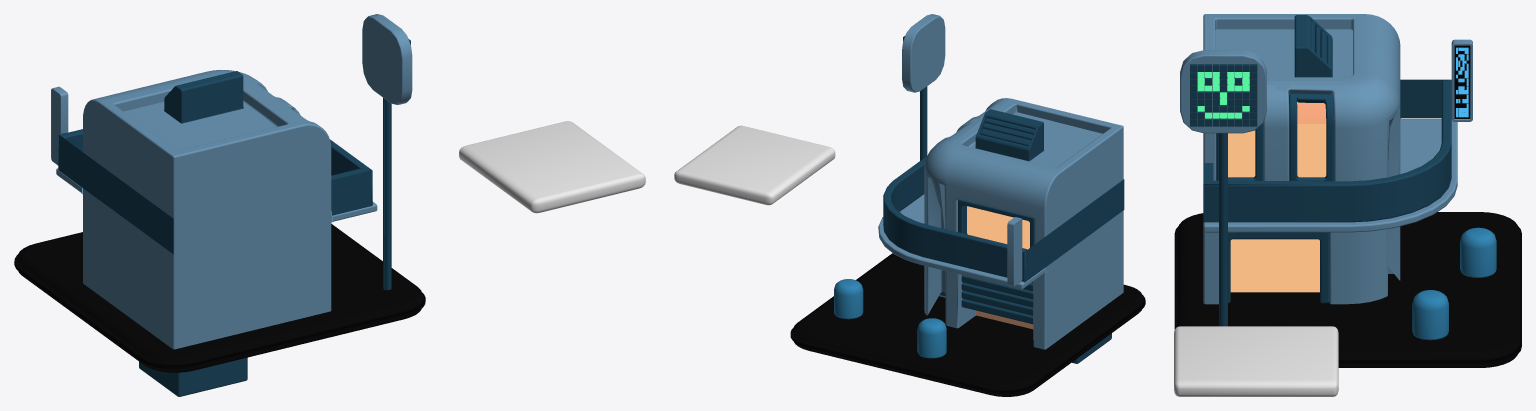
File: citymodel.glb
The picture shows the model from 3 angles, left to right: view 1: azimuth 30°, elevation 25°; view 2: azimuth 150°, elevation 25°; view 3: azimuth 270°, elevation 25°; orthographic projection. The views are drawn at different scales.
Visible parts, largest first — view 1: Plane.001, Plane, Cube, Plane.003, Plane.009, Plane.011, Vert, Plane.008; view 2: Plane.001, Plane, Plane.003, Cube, Plane.009, Plane.011, Plane.007, Plane.002, Circle.001, Circle, Plane.008, Plane.005 (+1 smaller); view 3: Plane.001, Plane, Plane.003, Cube, Plane.002, Plane.012, Plane.009, Plane.004, Plane.011, Vert, Circle.001, Circle (+5 smaller).
Boxes of the visible parts, x1,y1,x2,y2 form: Plane.001: (83,69,331,349); Plane: (14,224,425,372); Cube: (459,121,645,213); Plane.003: (58,129,372,396); Plane.009: (362,14,412,104); Plane.011: (164,71,243,123); Vert: (383,98,391,290); Plane.008: (51,86,68,165); Plane.001: (924,98,1123,349); Plane: (790,253,1145,396); Plane.003: (883,156,1124,363); Cube: (674,125,835,205); Plane.009: (902,14,945,92); Plane.011: (975,109,1044,161); Plane.007: (961,275,1033,324); Plane.002: (878,194,1045,289); Circle.001: (917,318,946,358); Circle: (834,279,863,319); Plane.008: (1007,217,1022,285); Plane.005: (958,199,1034,247); Plane.001: (1203,14,1400,304); Plane: (1174,212,1521,367); Plane.003: (1203,79,1451,222); Cube: (1174,326,1338,396); Plane.002: (1203,118,1457,232); Plane.012: (1190,64,1257,126); Plane.009: (1180,50,1266,133); Plane.004: (1216,93,1334,181); Plane.011: (1294,15,1332,77); Vert: (1219,133,1227,326); Circle.001: (1460,227,1496,277); Circle: (1412,290,1448,340).
Size of what is drawn, in the model's own units: 13.94 by 8.74 by 8.02.
